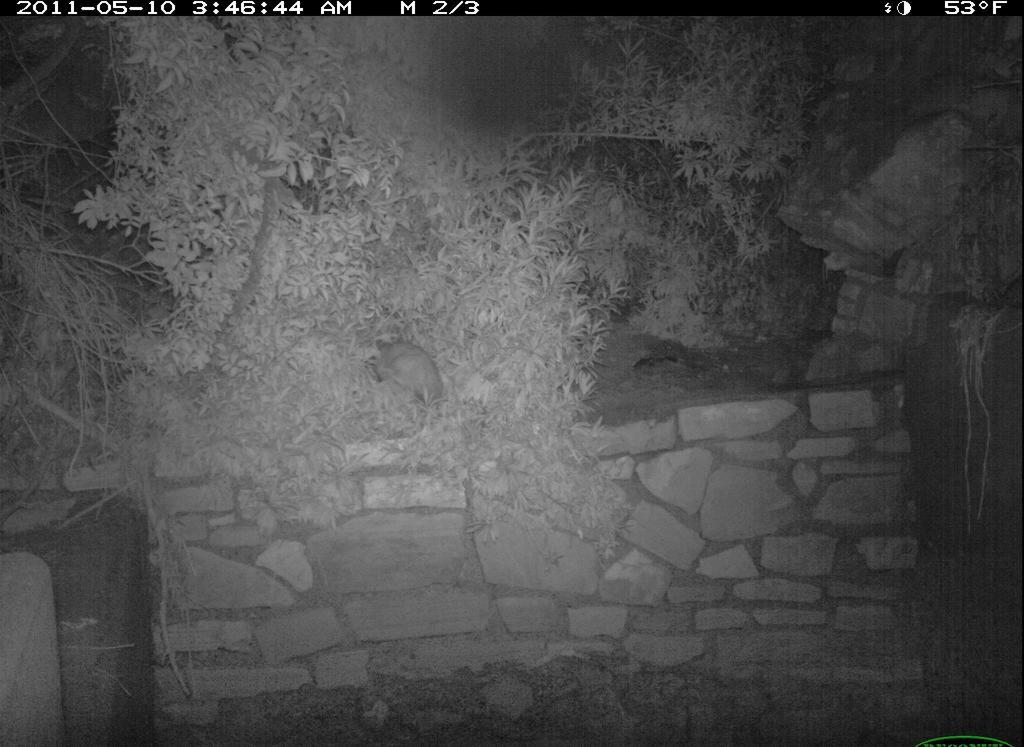opossum: (370, 331, 460, 420)
